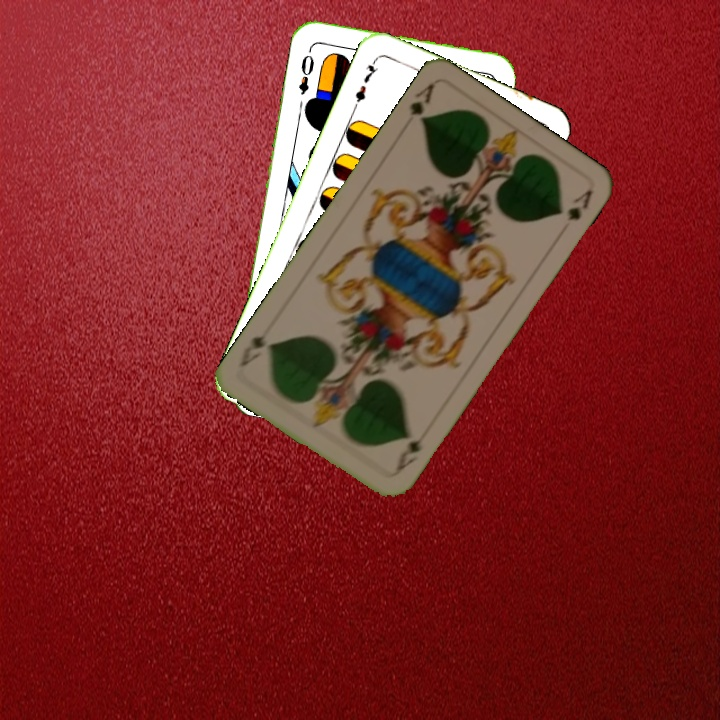E7: (349, 55, 381, 111)
EO: (294, 45, 317, 98)
GA: (389, 426, 430, 478), (406, 79, 437, 126)
